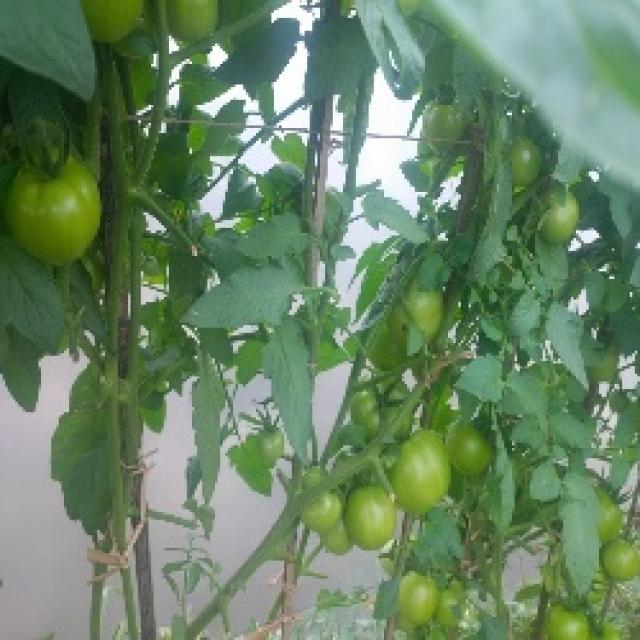tomato: (1, 143, 109, 266), (396, 432, 461, 517), (351, 372, 414, 431), (353, 490, 406, 555), (82, 1, 155, 47), (442, 422, 497, 483), (399, 282, 446, 348), (586, 480, 633, 546), (542, 190, 587, 249), (169, 1, 225, 47), (501, 133, 547, 186), (399, 572, 437, 633), (424, 101, 471, 149), (543, 602, 600, 640), (605, 534, 640, 586), (251, 416, 284, 469), (440, 572, 465, 626), (305, 498, 349, 526), (298, 456, 329, 491), (324, 526, 352, 562)
